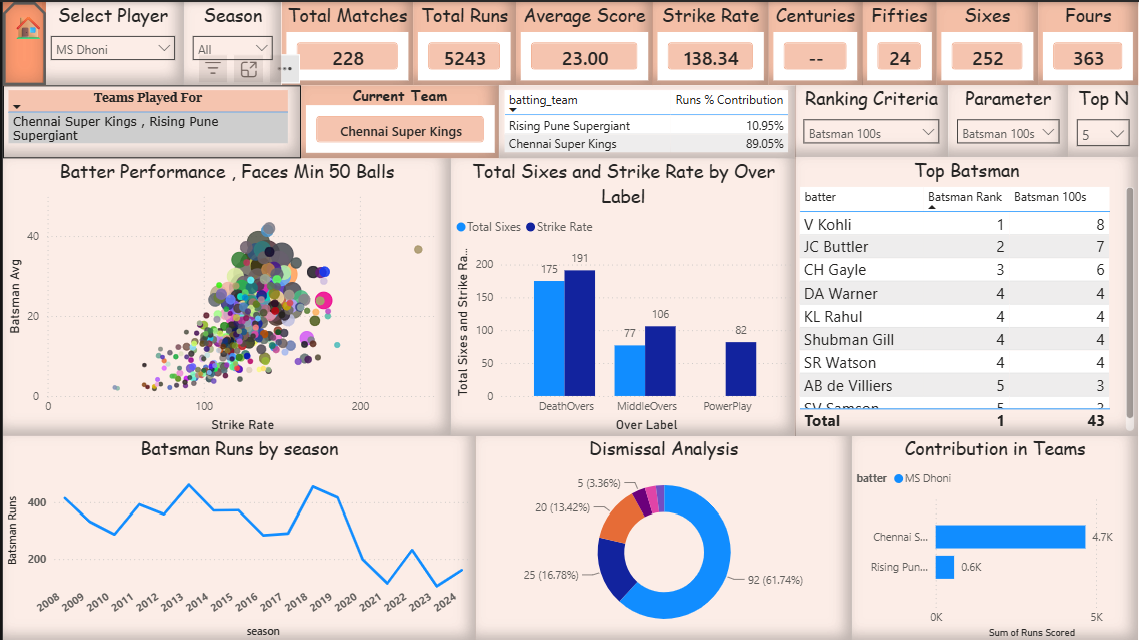

This screenshot's page, from the dashboard's own definition file:
{"tool":"powerbi","page":{"name":"Batter Analytics","canvas":[1280,720],"ordinal":4},"visuals":[{"type":"slicer","title":"Select Player","fields":{"Values":["deliveries.batter"]},"box":[44,0,160,93.9],"z":0},{"type":"cardVisual","title":"Total Runs","fields":{"Data":["deliveries.Batsman Runs"]},"box":[462.2,0,115.9,93.9],"z":1000},{"type":"cardVisual","title":"Average Score","fields":{"Data":["deliveries.Batsman Avg"]},"box":[578.2,0,154.1,93.9],"z":2000},{"type":"cardVisual","title":"Strike Rate","fields":{"Data":["deliveries.Strike Rate"]},"box":[732.3,0,130.6,93.9],"z":3000},{"type":"cardVisual","title":"Centuries","fields":{"Data":["deliveries.Batsman 100s"]},"box":[862.9,0,105.7,93.9],"z":4000},{"type":"cardVisual","title":"Fifties","fields":{"Data":["deliveries.Batsman 50s"]},"box":[968.5,0,83.6,93.9],"z":5000},{"type":"cardVisual","title":"Total Matches","fields":{"Data":["deliveries.Total Matches"]},"box":[314,0,148.2,93.9],"z":6000},{"type":"cardVisual","title":"Sixes","fields":{"Data":["deliveries.Total Sixes"]},"box":[1052.2,0,114.5,93.9],"z":7000},{"type":"cardVisual","title":"Fours","fields":{"Data":["deliveries.Total Fours"]},"box":[1166.6,0,113,93.9],"z":8000},{"type":"scatterChart","title":"Batter Performance , Faces Min 50 Balls","fields":{"X":["deliveries.Strike Rate"],"Y":["deliveries.Batsman Avg"],"Size":["deliveries.Batsman Runs"],"Series":["deliveries.batter"]},"box":[0,176.1,504.8,312.6],"z":9000},{"type":"lineChart","fields":{"Category":["matches.season"],"Y":["deliveries.Batsman Runs"]},"box":[0,488.7,532.7,231.9],"z":10000},{"type":"donutChart","title":"Dismissal Analysis","fields":{"Category":["deliveries.dismissal_kind"],"Y":["CountNonNull(deliveries.dismissal_kind)"]},"box":[532.7,488.7,424.1,231.9],"z":11000},{"type":"clusteredColumnChart","fields":{"Category":["deliveries.Over Label"],"Y":["deliveries.Total Sixes","deliveries.Strike Rate"]},"box":[504.8,176.1,388.9,312.6],"z":12000},{"type":"tableEx","title":"Teams PLayed for","fields":{"Values":["deliveries.Batsman Teams"]},"box":[0,93.9,336,82.2],"z":13000},{"type":"slicer","title":"Season","fields":{"Values":["matches.season"]},"box":[204,0,110.1,93.9],"z":14000},{"type":"cardVisual","title":"Current Team","fields":{"Data":["deliveries.Teams Played For"]},"box":[336,93.9,223.1,82.2],"z":15000},{"type":"barChart","title":"Contribution in Teams","fields":{"Category":["Batter Team.batting_team"],"Y":["Sum(Batter Team.Runs Scored)"],"Series":["Batter Team.batter"]},"box":[956.8,488.7,322.8,231.9],"z":16000},{"type":"tableEx","fields":{"Values":["deliveries.batting_team","deliveries.Runs % Contribution"]},"box":[559.1,93.9,334.6,82.2],"z":17000},{"type":"slicer","title":"Ranking Criteria","fields":{"Values":["Metric Batsman.Feature"]},"box":[892.2,93.9,173.2,80.7],"z":18000},{"type":"slicer","title":"Top N","fields":{"Values":["TopN Batters.TopN Batters"]},"box":[1200.4,93.9,79.2,80.7],"z":19000},{"type":"tableEx","title":"Top Batsman","fields":{"Values":["deliveries.batter","deliveries.Batsman Rank","deliveries.Batsman 100s"]},"box":[892.2,174.6,387.4,314],"z":20000},{"type":"slicer","title":"Parameter","fields":{"Values":["Batsman Parameter.Batsman Parameter"]},"box":[1065.4,93.9,135,80.7],"z":21000},{"type":"actionButton","box":[0,0,48.4,93.9],"z":22000}]}

Visuals, with their boxes in screenshot pixels (x1, y1, x2, y2), scaled from the page's 1280x720 canvas onto the 1139x640 screenshot:
"Select Player" slicer: rect(39, 0, 182, 83)
"Total Runs" cardVisual: rect(411, 0, 514, 83)
"Average Score" cardVisual: rect(515, 0, 652, 83)
"Strike Rate" cardVisual: rect(652, 0, 768, 83)
"Centuries" cardVisual: rect(768, 0, 862, 83)
"Fifties" cardVisual: rect(862, 0, 936, 83)
"Total Matches" cardVisual: rect(279, 0, 411, 83)
"Sixes" cardVisual: rect(936, 0, 1038, 83)
"Fours" cardVisual: rect(1038, 0, 1138, 83)
"Batter Performance , Faces Min 50 Balls" scatterChart: rect(0, 157, 449, 434)
lineChart - matches.season x deliveries.Batsman Runs: rect(0, 434, 474, 639)
"Dismissal Analysis" donutChart: rect(474, 434, 851, 639)
clusteredColumnChart - deliveries.Over Label x deliveries.Total Sixes: rect(449, 157, 795, 434)
"Teams PLayed for" tableEx: rect(0, 83, 299, 157)
"Season" slicer: rect(182, 0, 279, 83)
"Current Team" cardVisual: rect(299, 83, 498, 157)
"Contribution in Teams" barChart: rect(851, 434, 1138, 639)
tableEx - deliveries.batting_team x deliveries.Runs % Contribution: rect(498, 83, 795, 157)
"Ranking Criteria" slicer: rect(794, 83, 948, 155)
"Top N" slicer: rect(1068, 83, 1138, 155)
"Top Batsman" tableEx: rect(794, 155, 1138, 434)
"Parameter" slicer: rect(948, 83, 1068, 155)
actionButton: rect(0, 0, 43, 83)
